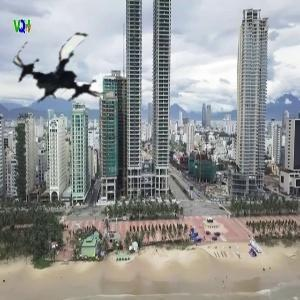drone: (16, 18, 120, 122)
